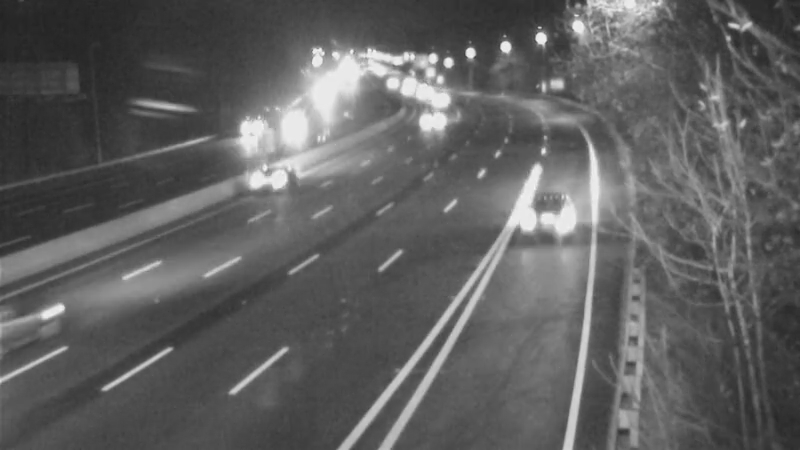vehicle: (1, 266, 90, 376), (507, 179, 587, 259), (220, 145, 300, 225), (362, 58, 412, 108), (385, 65, 435, 115), (402, 68, 452, 118), (414, 74, 464, 124), (402, 93, 452, 143), (237, 103, 287, 153), (273, 104, 323, 154)
